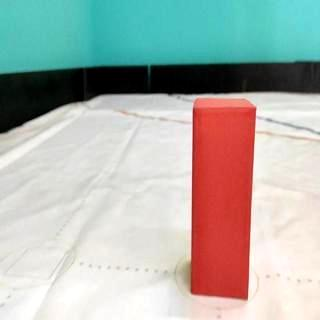redbox: (192, 98, 254, 301)
